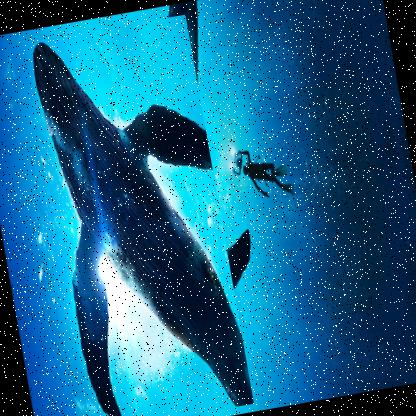blue_whale: (9, 13, 255, 415)
